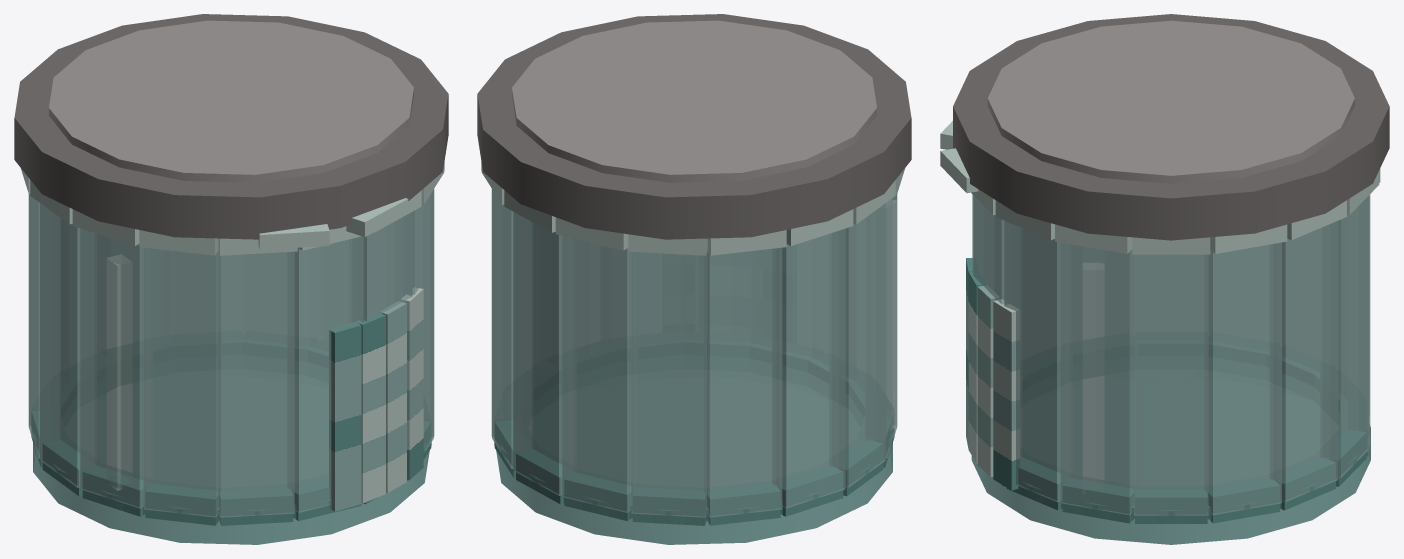
Rendered from CMU3DCMBeakerMedicalSmallCloudLidStudy.glb.
The picture shows the model from 3 angles, left to right: view 1: azimuth 30°, elevation 25°; view 2: azimuth 150°, elevation 25°; view 3: azimuth 270°, elevation 25°; orthographic projection.
Visible parts, largest first — view 1: lid inset top, removable solid closed lid, closed vessel floor, thin hollow vessel wall 10, thin hollow vessel wall 11, thin hollow vessel wall 09, thin hollow vessel wall 12, thin hollow vessel wall 08, original curved graduation column 16, subtle vertical glass edge 0, thin hollow vessel wall 07, thin hollow vessel wall 13 (+18 smaller); view 2: lid inset top, closed vessel floor, removable solid closed lid, thin hollow vessel wall 06, thin hollow vessel wall 05, thin hollow vessel wall 04, thin hollow vessel wall 07, thin hollow vessel wall 03, thin hollow vessel wall 08, thin hollow vessel wall 02, thin hollow vessel wall 09, thickened glass foot 06 (+18 smaller); view 3: lid inset top, removable solid closed lid, closed vessel floor, thin hollow vessel wall 15, thin hollow vessel wall 01, thin hollow vessel wall 16, thin hollow vessel wall 02, thin hollow vessel wall 14, thin hollow vessel wall 03, original curved graduation column 19, subtle vertical glass edge 1, thin hollow vessel wall 13 (+22 smaller).
Part boxes in pixels (<box>): lid inset top: <box>49,20,413,182</box>; removable solid closed lid: <box>14,14,448,239</box>; closed vessel floor: <box>33,369,429,544</box>; thin hollow vessel wall 10: <box>143,247,221,517</box>; thin hollow vessel wall 11: <box>217,251,294,517</box>; thin hollow vessel wall 09: <box>80,228,153,508</box>; thin hollow vessel wall 12: <box>287,236,363,512</box>; thin hollow vessel wall 08: <box>40,203,96,487</box>; original curved graduation column 16: <box>329,322,361,511</box>; subtle vertical glass edge 0: <box>107,254,132,490</box>; thin hollow vessel wall 07: <box>28,193,60,458</box>; thin hollow vessel wall 13: <box>349,212,412,323</box>; lid inset top: <box>512,20,876,182</box>; closed vessel floor: <box>496,369,892,544</box>; removable solid closed lid: <box>477,14,911,239</box>; thin hollow vessel wall 06: <box>704,247,782,517</box>; thin hollow vessel wall 05: <box>631,251,708,517</box>; thin hollow vessel wall 04: <box>562,236,638,512</box>; thin hollow vessel wall 07: <box>772,228,845,508</box>; thin hollow vessel wall 03: <box>513,212,576,495</box>; thin hollow vessel wall 08: <box>829,203,885,487</box>; thin hollow vessel wall 02: <box>492,189,532,468</box>; thin hollow vessel wall 09: <box>865,193,897,458</box>; thickened glass foot 06: <box>706,481,780,525</box>; lid inset top: <box>987,20,1354,183</box>; removable solid closed lid: <box>953,14,1389,240</box>; closed vessel floor: <box>971,370,1370,544</box>; thin hollow vessel wall 15: <box>1060,242,1137,515</box>; thin hollow vessel wall 01: <box>1204,242,1281,515</box>; thin hollow vessel wall 16: <box>1134,254,1208,515</box>; thin hollow vessel wall 02: <box>1270,221,1338,501</box>; thin hollow vessel wall 14: <box>1004,220,1072,501</box>; thin hollow vessel wall 03: <box>1320,195,1369,478</box>; original curved graduation column 19: <box>993,299,1019,490</box>; subtle vertical glass edge 1: <box>1083,263,1103,493</box>; thin hollow vessel wall 13: <box>973,195,1022,457</box>.
Bounding box in the file's own units: 0.4225 × 0.387 × 0.4347.
Materials: 11 (4 with a texture image).
